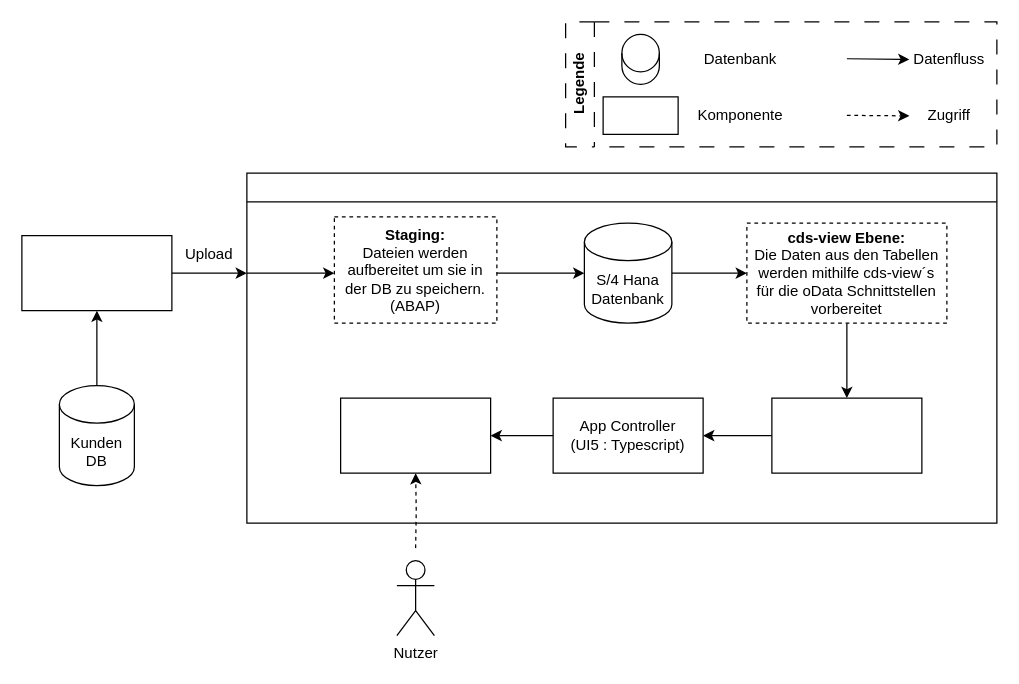
Some shapes in this 1019 by 684 pixel diagram are drawn without their labels. Here are the shapes that lost their labels. From the top down, the box of each, then its label:
(21, 234, 172, 311): Extraktions Dateien (20 Files mit roh Strings)
(246, 172, 997, 523): Der EA
(339, 397, 491, 473): Frontend (UI5 : XML)
(771, 397, 922, 473): oData Schnittstelle
